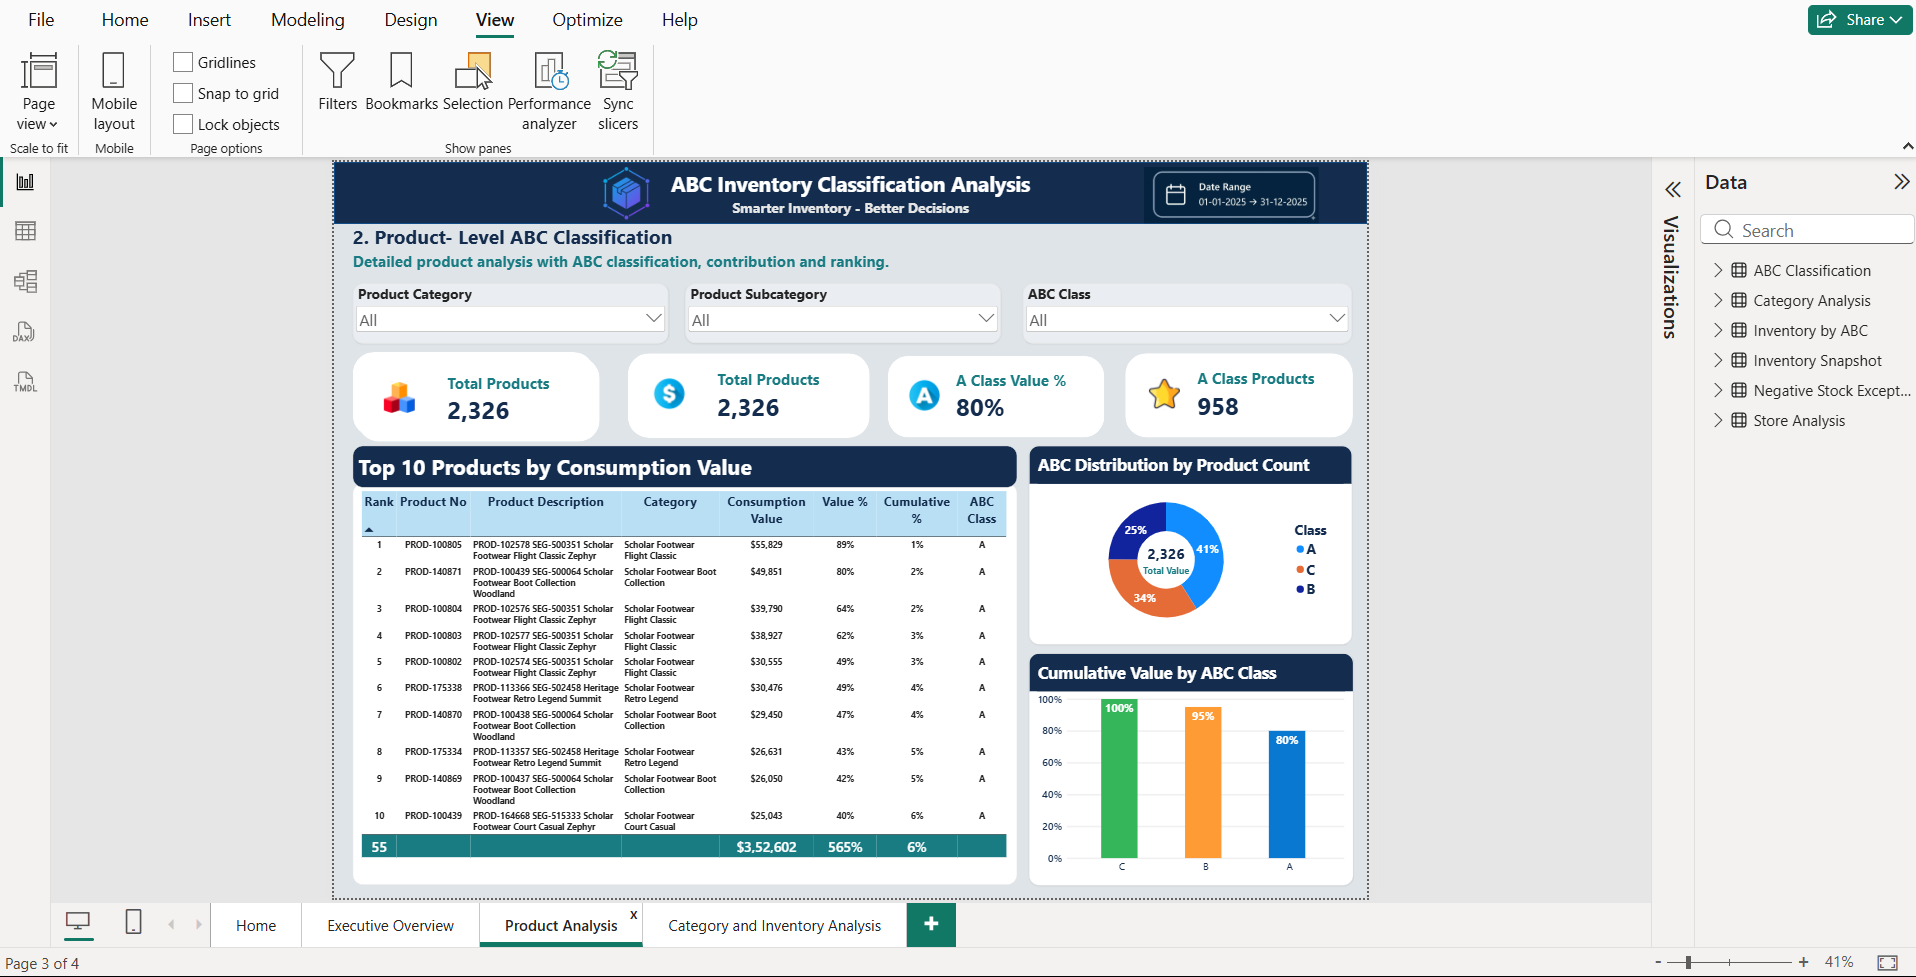

Layout of this report page (visuals, bound fields, positions):
{"tool":"powerbi","page":{"name":"Product Analysis","canvas":[2000,1425],"ordinal":2},"visuals":[{"type":"shape","title":"ABC INVENTORY CLASSIFICATION ANALYSIS","box":[0,0,2000.4,120.1],"z":0},{"type":"shape","box":[35.7,368.5,468.4,164.1],"z":0,"group":"g1"},{"type":"shape","box":[568.7,370.3,468.4,164.1],"z":0,"group":"g5"},{"type":"shape","box":[1531.3,370.9,440.7,163],"z":0,"group":"g3"},{"type":"shape","box":[1072.4,375.7,419.3,158.2],"z":0,"group":"g2"},{"type":"shape","box":[45.7,378.5,468.4,164.1],"z":0,"group":"g4"},{"type":"textbox","title":"ABC Inventory Classification Analysis","box":[0,15,2000.4,105.1],"z":1000},{"type":"actionButton","box":[52.8,400.2,126.4,93.4],"z":1000,"group":"g1"},{"type":"actionButton","box":[585.8,402,126.4,93.4],"z":1000,"group":"g5"},{"type":"actionButton","box":[1563,402.8,88.6,93.5],"z":1000,"group":"g3"},{"type":"actionButton","box":[1102.5,406.7,84.3,90.7],"z":1000,"group":"g2"},{"type":"actionButton","box":[62.8,410.2,126.4,93.4],"z":1000,"group":"g4"},{"type":"textbox","title":"2. Product- Level ABC Classification","box":[35.7,118.9,1222.1,100.8],"z":2000},{"type":"cardVisual","fields":{"Data":["ABC Classification.Total Products"]},"box":[192.9,368.5,302,164.1],"z":2000,"group":"g1"},{"type":"cardVisual","fields":{"Data":["ABC Classification.Total Products"]},"box":[725.9,370.3,302,164.1],"z":2000,"group":"g5"},{"type":"cardVisual","fields":{"Data":["ABC Classification.A Class Products"]},"box":[1654.1,373.5,277.9,157.6],"z":2000,"group":"g3"},{"type":"cardVisual","fields":{"Data":["ABC Classification.A Class Value %"]},"box":[1189.2,378.3,264.3,153],"z":2000,"group":"g2"},{"type":"cardVisual","fields":{"Data":["ABC Classification.Total Products"]},"box":[202.9,378.5,302,164.1],"z":2000,"group":"g4"},{"type":"group","id":"g1","title":"Group 1","box":[35.7,368.5,468.4,164.1],"z":3000},{"type":"group","id":"g2","title":"Group 1","box":[1072.4,375.7,418.5,156.9],"z":4000},{"type":"group","id":"g3","title":"Group 1","box":[1531.3,370.9,439.9,164.1],"z":5000},{"type":"tableEx","title":"Top 10 Products by Consumption Value","fields":{"Values":["Sum(ABC Classification.ProductRank)","ABC Classification.ProductNo","ABC Classification.ProductDescription","ABC Classification.ProductCategory","Sum(ABC Classification.ConsumptionValue)","Sum(ABC Classification.ContributionPercentage)","ABC Classification.Cumulative %","ABC Classification.ABCClass"]},"box":[35.7,623,1286.4,777.5],"z":6000},{"type":"slicer","fields":{"Values":["ABC Classification.ProductCategory"]},"box":[35.7,235.4,611.1,116.5],"z":7000},{"type":"slicer","fields":{"Values":["ABC Classification.ProductSubcategory"]},"box":[680,235.4,611,116],"z":8000},{"type":"slicer","fields":{"Values":["ABC Classification.ABCClass"]},"box":[1333.9,235.4,637.2,116.5],"z":9000},{"type":"textbox","title":"Top 10 Products by Consumption Value","box":[35.7,550,1286.4,80.8],"z":10000},{"type":"donutChart","title":"ABC Distribution by Product Count","fields":{"Category":["ABC Classification.ABCClass"],"Y":["ABC Classification.Total Products"]},"box":[1345.8,550,625.3,385.2],"z":11000},{"type":"clusteredColumnChart","title":"Cumulative Value by ABC Class","fields":{"Category":["ABC Classification.ABCClass"],"Y":["ABC Classification.Cumulative Value by ABC Class"]},"box":[1345.8,951.1,627.7,449.4],"z":12000},{"type":"group","id":"g4","title":"Group 1","box":[45.7,378.5,468.4,164.1],"z":13000},{"type":"group","id":"g5","title":"Group 1","box":[568.7,370.3,469.5,162.2],"z":14000},{"type":"image","box":[1563.4,9.7,348.5,108.9],"z":15000},{"type":"image","box":[496.1,9.7,140.1,101.9],"z":15001}]}

Visuals, with their boxes on the page's 2000x1425 design canvas (x1, y1, x2, y2). These are canvas units, not pixel positions in the 1916x977 screenshot, which may show the page scaled, cropped or inside an application window:
"ABC INVENTORY CLASSIFICATION ANALYSIS" shape: box=[0, 0, 2000, 120]
shape: box=[36, 368, 504, 533]
shape: box=[569, 370, 1037, 534]
shape: box=[1531, 371, 1972, 534]
shape: box=[1072, 376, 1492, 534]
shape: box=[46, 378, 514, 543]
"ABC Inventory Classification Analysis" textbox: box=[0, 15, 2000, 120]
actionButton: box=[53, 400, 179, 494]
actionButton: box=[586, 402, 712, 495]
actionButton: box=[1563, 403, 1652, 496]
actionButton: box=[1102, 407, 1187, 497]
actionButton: box=[63, 410, 189, 504]
"2. Product- Level ABC Classification" textbox: box=[36, 119, 1258, 220]
cardVisual - ABC Classification.Total Products: box=[193, 368, 495, 533]
cardVisual - ABC Classification.Total Products: box=[726, 370, 1028, 534]
cardVisual - ABC Classification.A Class Products: box=[1654, 374, 1932, 531]
cardVisual - ABC Classification.A Class Value %: box=[1189, 378, 1454, 531]
cardVisual - ABC Classification.Total Products: box=[203, 378, 505, 543]
"Group 1" group: box=[36, 368, 504, 533]
"Group 1" group: box=[1072, 376, 1491, 533]
"Group 1" group: box=[1531, 371, 1971, 535]
"Top 10 Products by Consumption Value" tableEx: box=[36, 623, 1322, 1400]
slicer - ABC Classification.ProductCategory: box=[36, 235, 647, 352]
slicer - ABC Classification.ProductSubcategory: box=[680, 235, 1291, 351]
slicer - ABC Classification.ABCClass: box=[1334, 235, 1971, 352]
"Top 10 Products by Consumption Value" textbox: box=[36, 550, 1322, 631]
"ABC Distribution by Product Count" donutChart: box=[1346, 550, 1971, 935]
"Cumulative Value by ABC Class" clusteredColumnChart: box=[1346, 951, 1974, 1400]
"Group 1" group: box=[46, 378, 514, 543]
"Group 1" group: box=[569, 370, 1038, 532]
image: box=[1563, 10, 1912, 119]
image: box=[496, 10, 636, 112]
